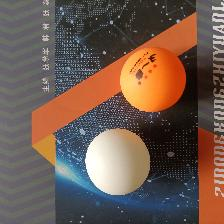WhiteBall: (84, 127, 150, 195)
YellowBall: (118, 46, 186, 112)
